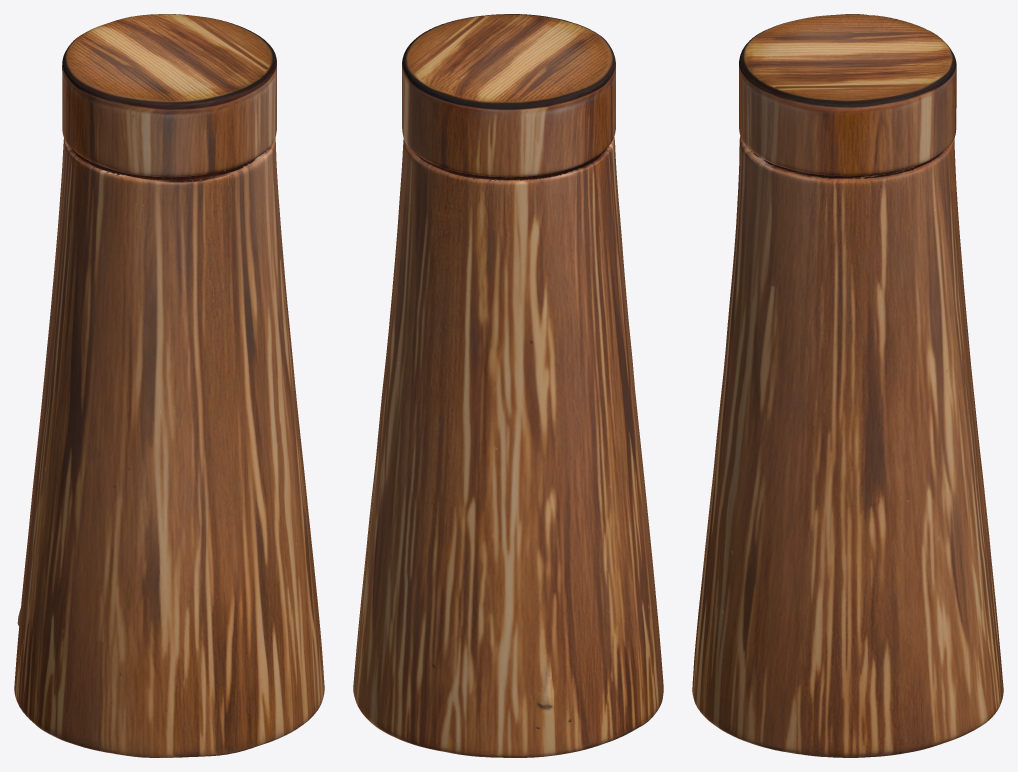
File: option1-3d-model.glb
3 views of the same model, side by side, from view 1: azimuth 30°, elevation 25°; view 2: azimuth 150°, elevation 25°; view 3: azimuth 270°, elevation 25° (orthographic).
Bounding box in the file's own units: 0.8798 × 1.99 × 0.8821.
Materials: 1 (1 with a texture image).
